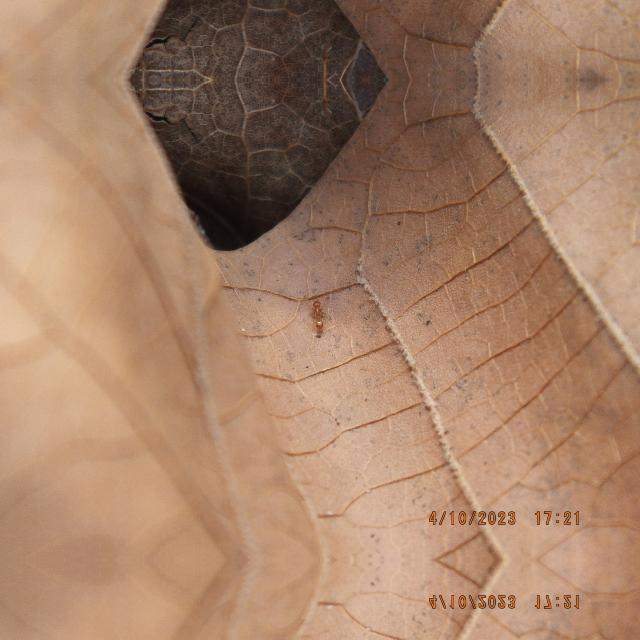Temnothorax: (304, 294, 332, 336)
